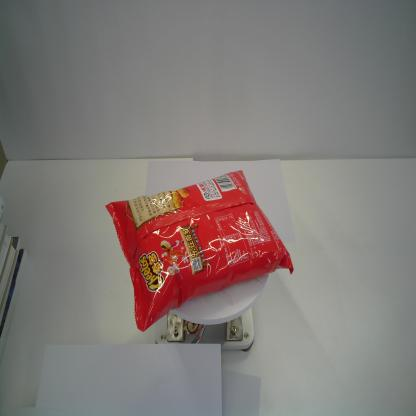Puffed Food: (106, 169, 294, 330)
